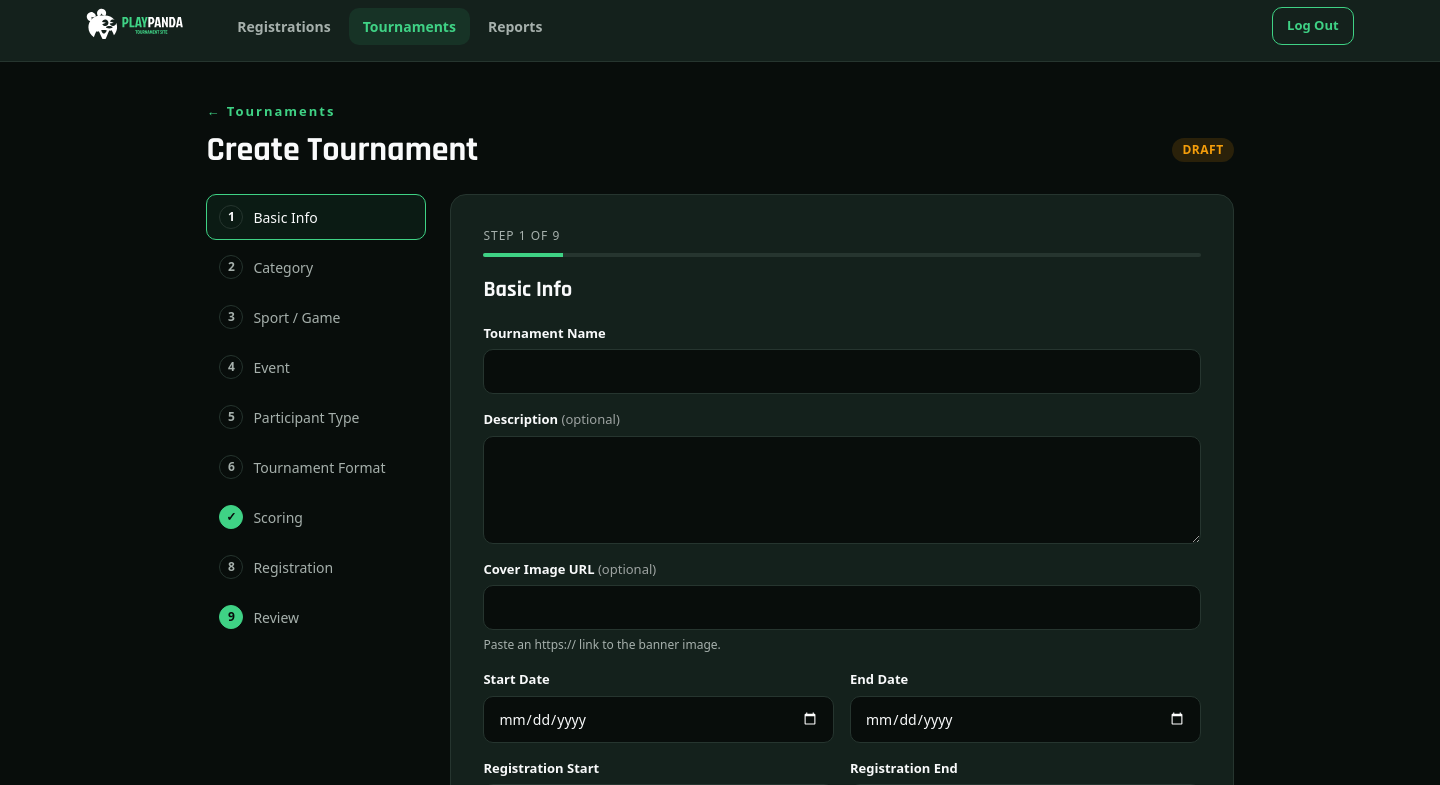
it: TournamentWizardPage › keeps Publish disabled and lists what is missing on Review
Click the button "9 Review": x=316, y=617 [206, 594, 426, 640]
(page scrolled)
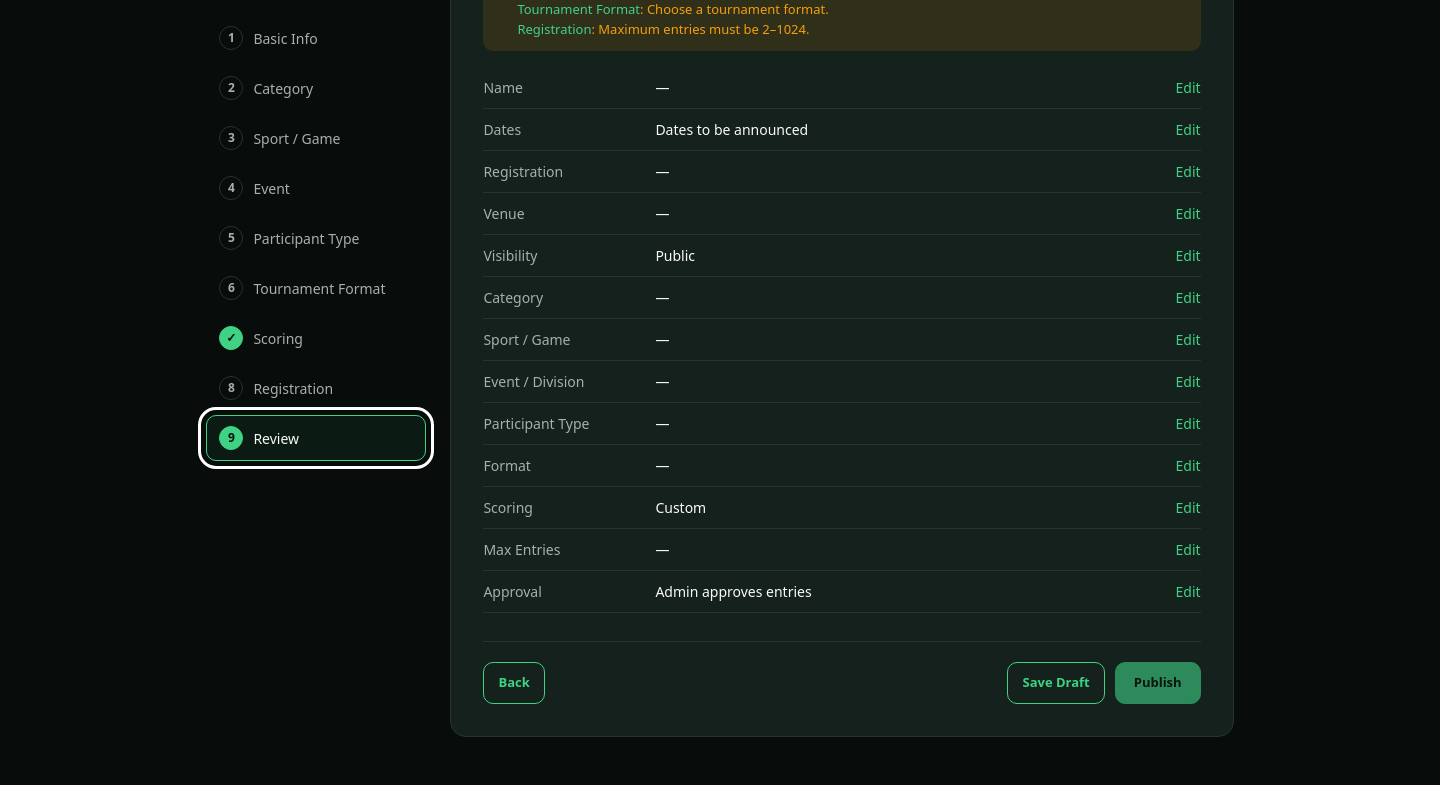
Check: the button "Publish" is disabled, box [1115, 662, 1201, 704]
